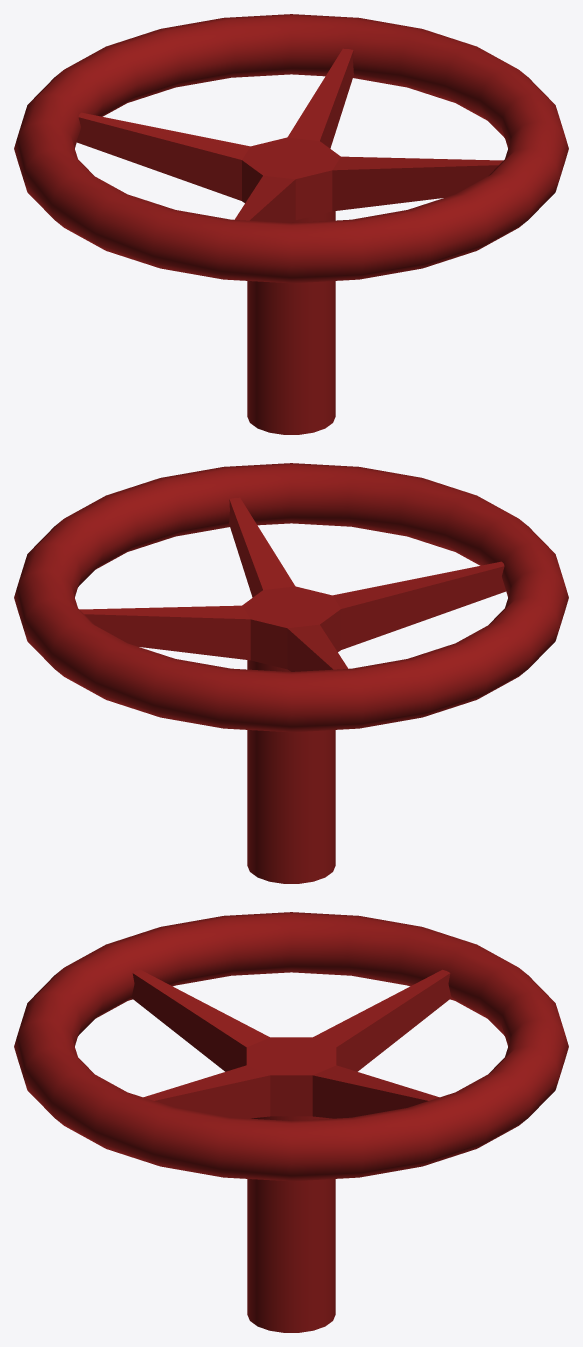
Rendered from KranOsnovaMain.fbx.
3 renders of one model, top to bottom at view 1: azimuth 30°, elevation 25°; view 2: azimuth 150°, elevation 25°; view 3: azimuth 270°, elevation 25°, orthographic.
Visible parts, largest first — view 1: Кран; view 2: Кран; view 3: Кран.
Boxes of the visible parts, x1=… form: Кран: x1=14, y1=14, x2=568, y2=434; Кран: x1=14, y1=463, x2=568, y2=883; Кран: x1=14, y1=912, x2=568, y2=1332.
Bounding box in the file's own units: 2.77 × 1.63 × 2.77.
